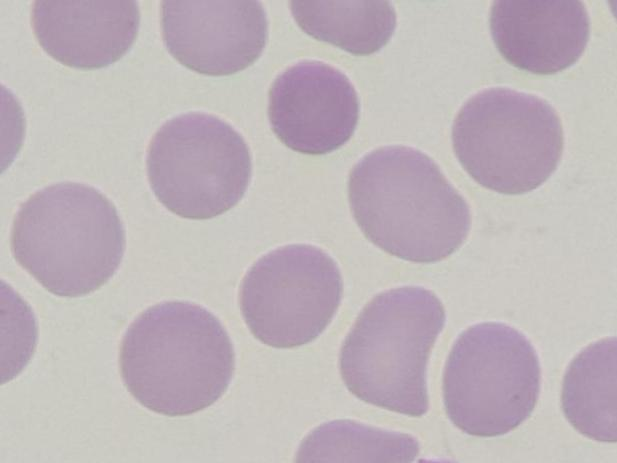Uninfected: (350, 143, 471, 260), (118, 298, 234, 417), (339, 288, 443, 420), (13, 183, 122, 302), (146, 107, 252, 220), (236, 242, 344, 352), (451, 87, 561, 195), (441, 320, 540, 436), (266, 59, 361, 159), (30, 0, 146, 74), (161, 0, 266, 79), (488, 0, 590, 77), (556, 335, 617, 443), (290, 0, 403, 57)
